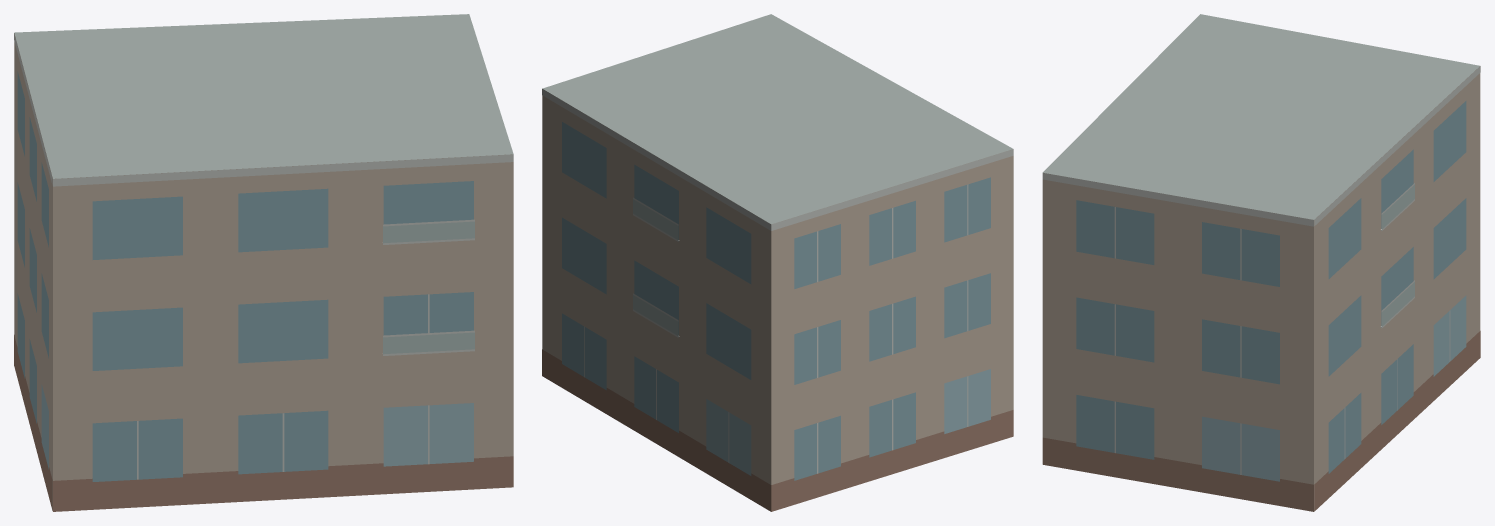
The model's file is survey-upis-32489346.glb.
The picture shows the model from 3 angles, left to right: view 1: azimuth 30°, elevation 25°; view 2: azimuth 150°, elevation 25°; view 3: azimuth 270°, elevation 25°; orthographic projection. The views are drawn at different scales.
Visible parts, largest first — view 1: survey-upis-32489346.tmp; view 2: survey-upis-32489346.tmp; view 3: survey-upis-32489346.tmp.
Part boxes in pixels (bbox=[...]): survey-upis-32489346.tmp: bbox=[14, 14, 513, 511]; survey-upis-32489346.tmp: bbox=[542, 14, 1013, 511]; survey-upis-32489346.tmp: bbox=[1042, 14, 1480, 511].
Bounding box in the file's own units: 15.89 × 10.5 × 14.28.
